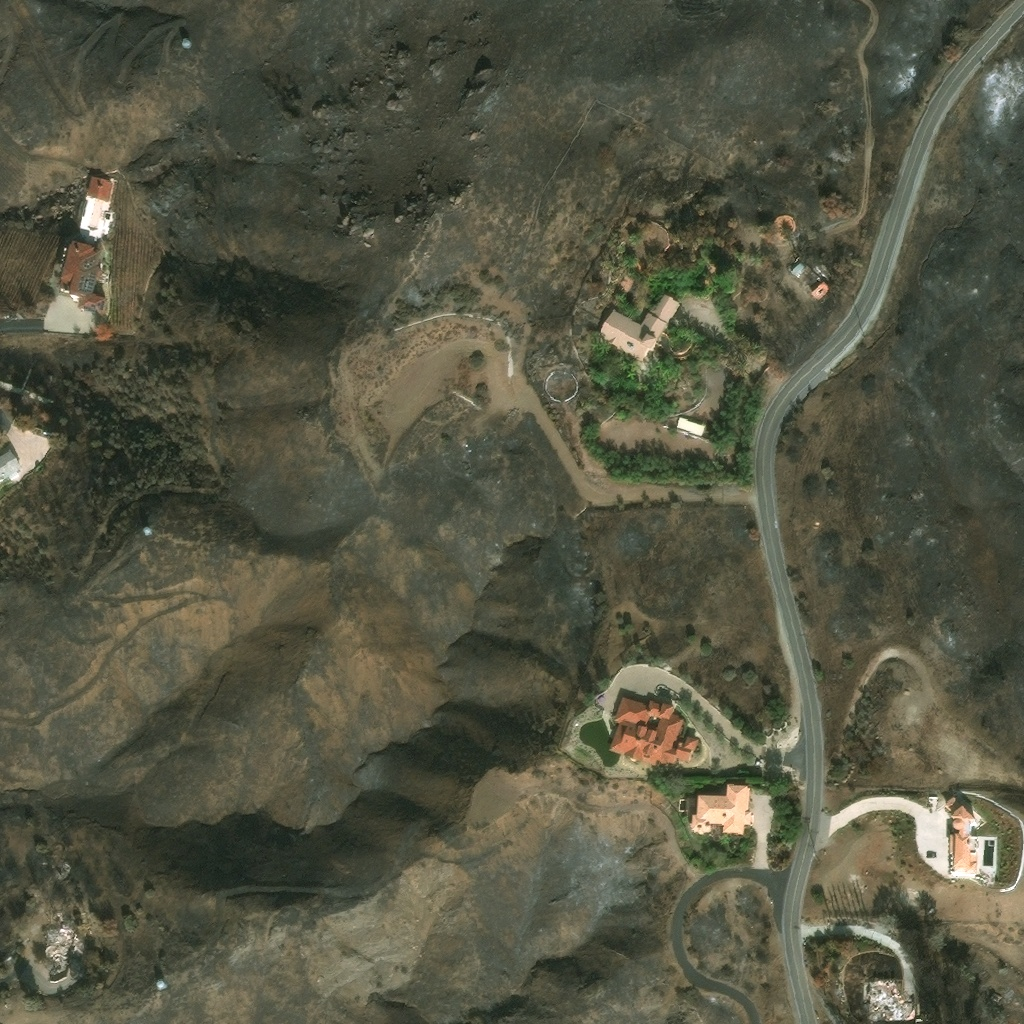0 no-damage: (606, 695, 699, 775), (595, 293, 681, 364), (690, 783, 754, 837), (941, 796, 978, 875), (77, 174, 116, 241), (0, 447, 26, 483), (676, 416, 705, 436), (811, 281, 831, 300), (790, 261, 806, 278), (181, 37, 191, 48), (154, 978, 165, 988)
2 major-damage: (58, 238, 108, 315)
3 destroyed: (861, 975, 915, 1022), (48, 921, 77, 965), (990, 991, 1003, 1002), (30, 923, 40, 933)
